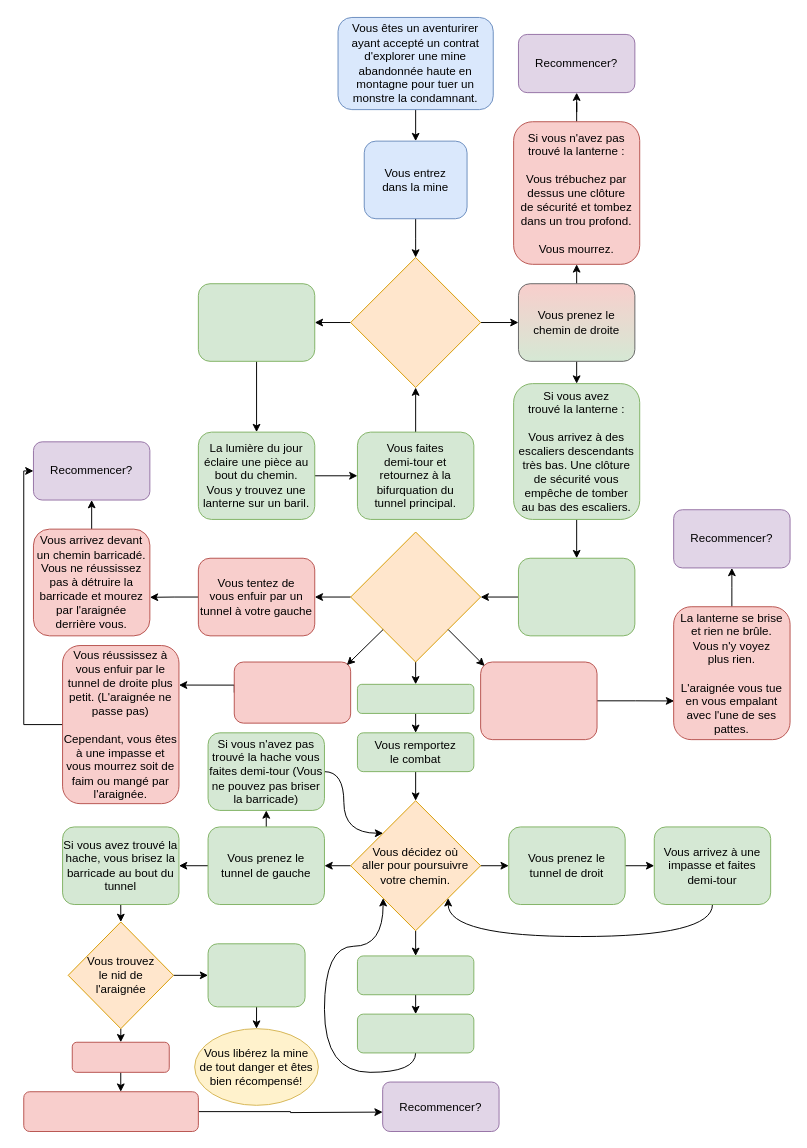
This 807x1148 diagram has some shape labels left out. Each missing label, with the centre of its shape:
Le tunnel principal bifurque à l'entrée: pixel 415 322
Les bébés araignées connaissent votre trace et vous tuent dans votre sommeil.: pixel 110 1111
Vous arrivez au bas des escaliers: pixel 576 596
Vous brulez le nid d'araignée avec votre lanterne: pixel 256 975
Vous explorez la pièce: pixel 415 975
Vous fuyez par la sortie: pixel 120 1056
Vous l'affrontez: pixel 415 698
Vous lancez votre lanterne sur l'araignée: pixel 538 700
Vous prenez le chemin de gauche: pixel 256 322
Vous tentez de vous enfuir par un tunnel à votre droite: pixel 292 692
Vous trouvez une hache: pixel 415 1033
Vous êtes pris en embuscade par une araignée géante.: pixel 415 596
